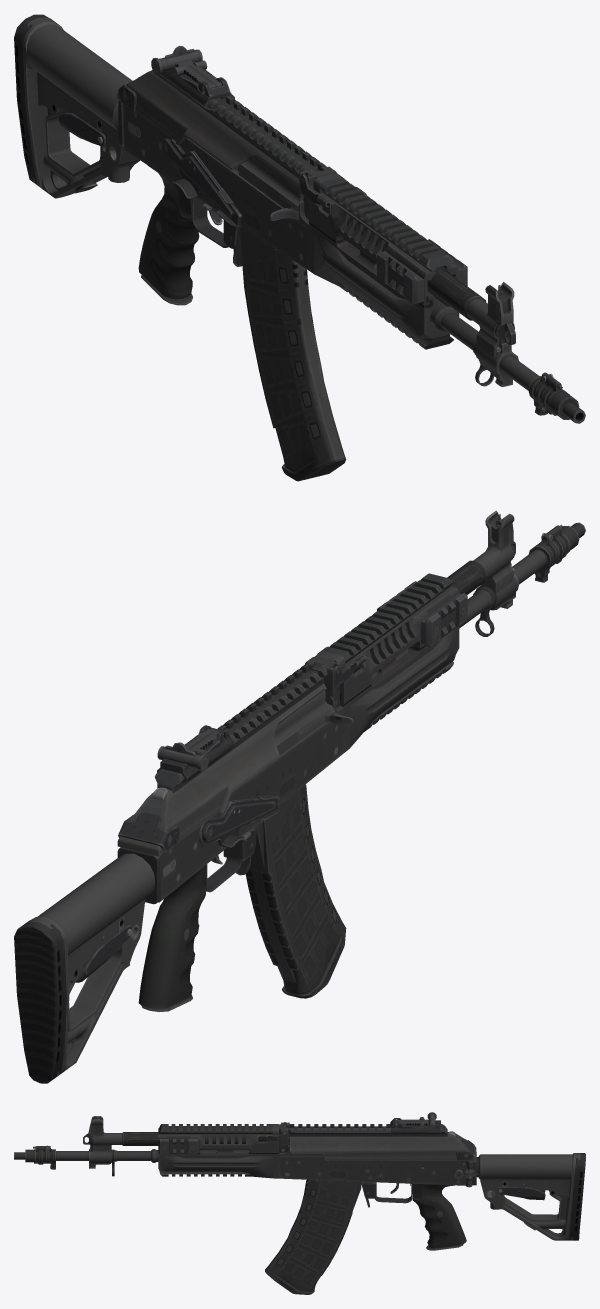
Rendered from raw.glb.
The picture shows the model from 3 angles, top to bottom: view 1: azimuth 30°, elevation 25°; view 2: azimuth 150°, elevation 25°; view 3: azimuth 270°, elevation 25°; orthographic projection. The views are drawn at different scales.
Visible parts, largest first — view 1: ak12_LOD0; view 2: ak12_LOD0; view 3: ak12_LOD0.
Boxes of the visible parts, bbox=[...] form: ak12_LOD0: bbox=[14, 14, 585, 481]; ak12_LOD0: bbox=[14, 510, 585, 1083]; ak12_LOD0: bbox=[14, 1112, 585, 1294].
Bounding box in the file's own units: 0.0571 × 0.2662 × 0.7818.
Materials: 1 (1 with a texture image).
